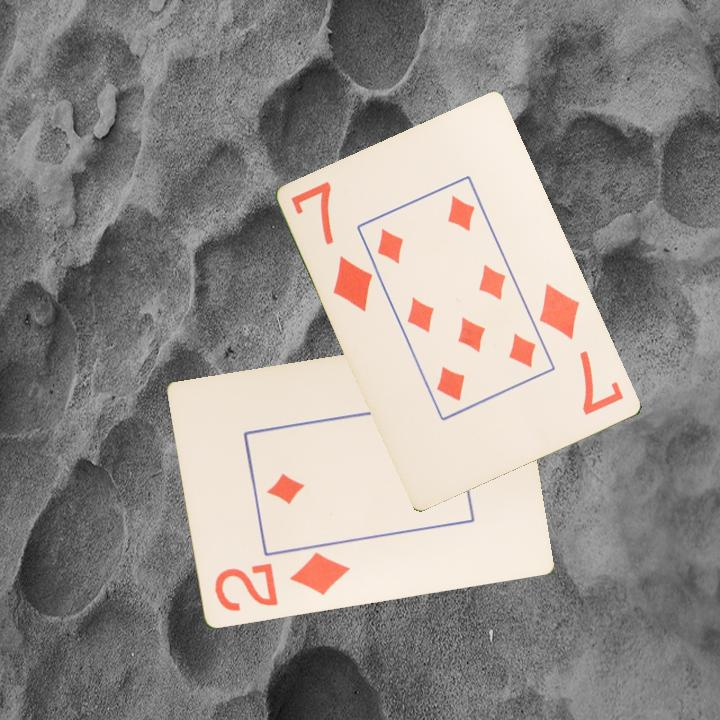2d: (210, 549, 353, 615)
7d: (536, 280, 628, 418), (288, 178, 376, 315)
